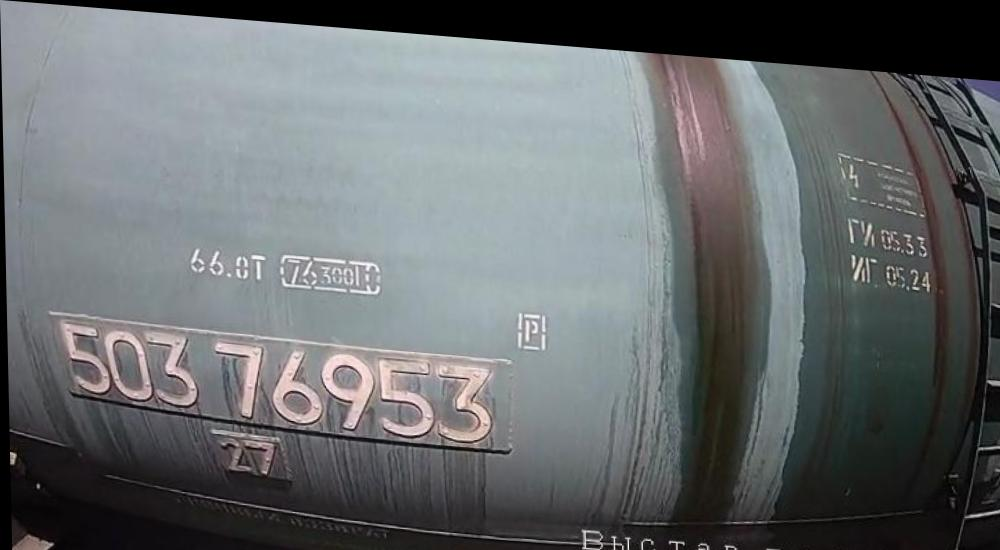Wagon-number: (54, 314, 505, 446)
